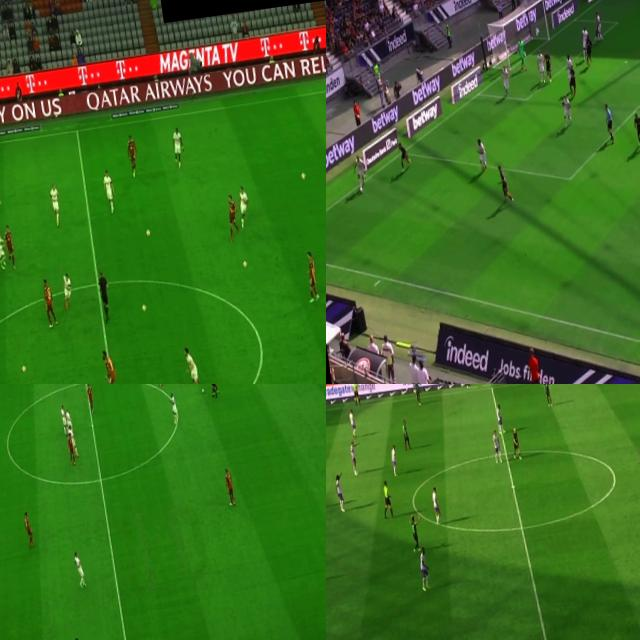ball: (198, 384, 210, 399), (356, 180, 366, 197), (140, 300, 148, 314), (243, 258, 249, 268), (146, 227, 151, 238), (302, 170, 306, 180), (22, 363, 26, 373)
player: (181, 343, 203, 384), (304, 248, 320, 304), (236, 182, 252, 231), (42, 278, 57, 329), (472, 138, 493, 174), (3, 226, 20, 269), (124, 134, 140, 178), (72, 548, 88, 590), (415, 548, 432, 587), (100, 348, 118, 384), (562, 49, 579, 86), (496, 164, 512, 203), (396, 137, 412, 176), (172, 126, 186, 170), (560, 89, 574, 131), (60, 272, 76, 308), (225, 194, 238, 238), (167, 392, 182, 430), (354, 150, 368, 190), (22, 510, 36, 550), (430, 485, 444, 524), (334, 469, 346, 514), (498, 61, 512, 98), (490, 428, 504, 464), (224, 467, 236, 508), (580, 24, 592, 64), (564, 64, 578, 98), (408, 513, 422, 546), (66, 430, 78, 468), (50, 183, 61, 224), (516, 36, 528, 72), (104, 172, 115, 210), (535, 48, 546, 84), (584, 34, 595, 70), (493, 401, 505, 434), (63, 408, 76, 438), (68, 424, 81, 454), (401, 417, 412, 452), (542, 51, 554, 83), (594, 9, 606, 41), (590, 8, 602, 40), (58, 402, 70, 433), (0, 231, 9, 272), (85, 384, 96, 416), (388, 442, 398, 476), (348, 442, 358, 473), (348, 408, 358, 436), (633, 109, 640, 148), (412, 384, 423, 407), (543, 384, 553, 407), (635, 444, 640, 485), (210, 384, 218, 392)
